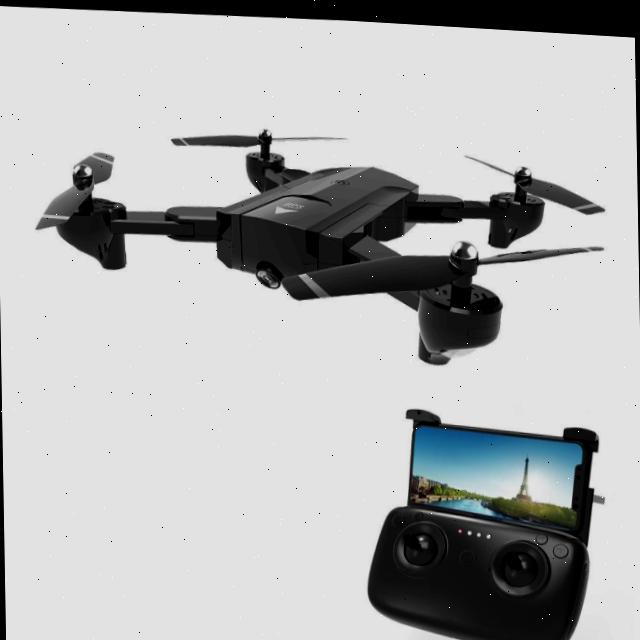drone: (0, 7, 640, 390)
